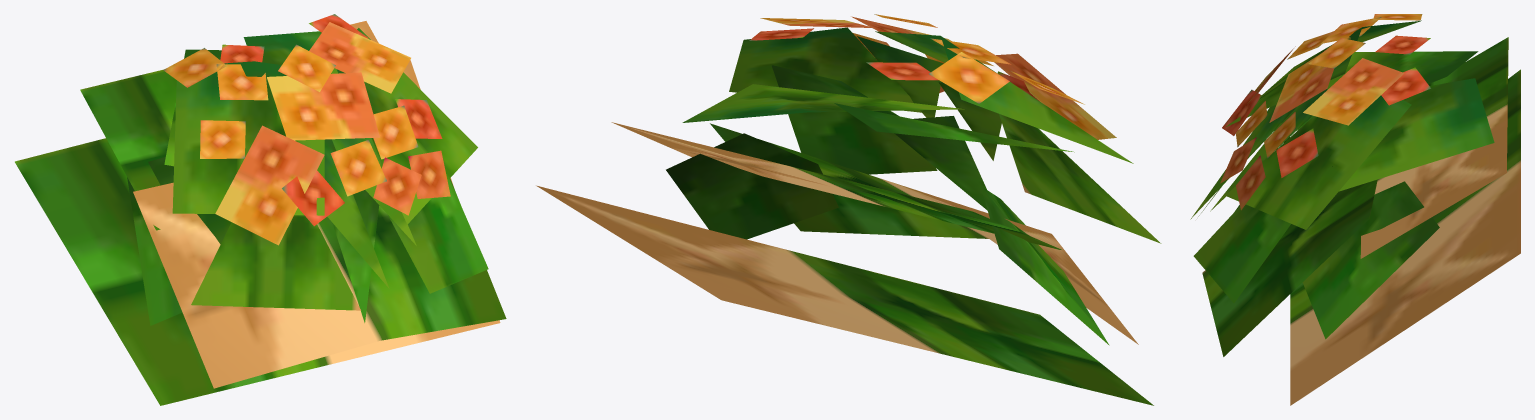
File: fg_bushE_2.dae
The picture shows the model from 3 angles, left to right: view 1: azimuth 30°, elevation 25°; view 2: azimuth 150°, elevation 25°; view 3: azimuth 270°, elevation 25°; orthographic projection. The views are drawn at different scales.
Parts seen in each view (by area): view 1: fg_bushE_2; view 2: fg_bushE_2; view 3: fg_bushE_2.
Part boxes in pixels (bbox=[...]): fg_bushE_2: bbox=[15, 14, 506, 405]; fg_bushE_2: bbox=[536, 14, 1161, 405]; fg_bushE_2: bbox=[1190, 14, 1520, 405].
Bounding box in the file's own units: 50.84 × 35.63 × 37.63.
Materials: 1 (1 with a texture image).
